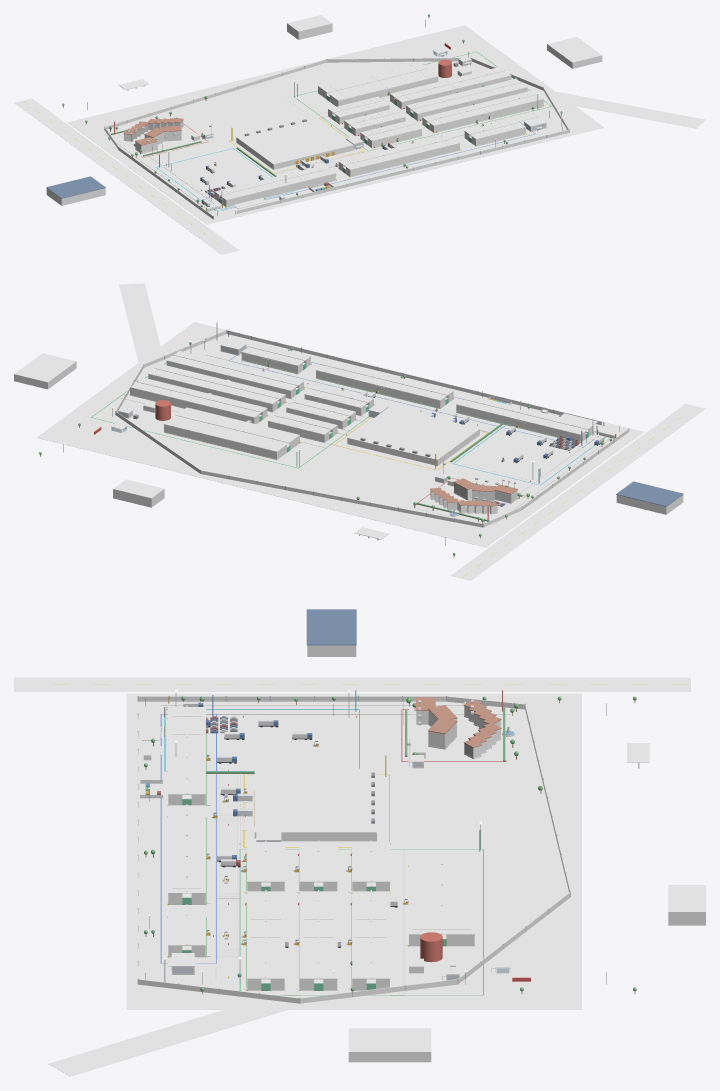
Rendered from site_built_full.opt.glb.
3 renders of one model, top to bottom at view 1: azimuth 30°, elevation 25°; view 2: azimuth 150°, elevation 25°; view 3: azimuth 270°, elevation 25°, orthographic. The views are drawn at different scales.
Parts seen in each view (by area): view 1: ground, ctx_road_w, Z3_roof, z2_yard, ctx_road_e, fence_s, ctx_neigh, road_spine, WHE-5_roof1, WHE-5_roof2, fence2, road_w (+24 smaller); view 2: ground, ctx_road_w, Z3_roof, z2_yard, ctx_road_e, fence_s, ctx_neigh, fence2, WHE-5_roof2, road_spine, WHE-5_roof1, road_w (+23 smaller); view 3: ground, ctx_road_w, Z3_roof, z2_yard, ctx_road_e, road_spine, ctx_neigh, z1_green, WHE-5_roof2, WHE-5_roof1, road_r0, road_r2 (+20 smaller).
Boxes of the visible parts, x1,y1,x2,y2 form: ground: (67,25,604,224); ctx_road_w: (14,98,239,254); Z3_roof: (236,117,353,164); z2_yard: (166,151,268,205); ctx_road_e: (530,87,705,128); fence_s: (237,129,568,213); ctx_neigh: (547,37,602,68); road_spine: (270,111,538,177); WHE-5_roof1: (328,69,437,100); WHE-5_roof2: (318,61,427,93); fence2: (105,59,326,129); road_w: (105,134,222,212); ground: (36,322,643,547); ctx_road_w: (451,403,705,580); Z3_roof: (347,406,479,459); z2_yard: (460,426,593,481); ctx_road_e: (119,283,165,373); fence_s: (226,330,601,425); ctx_neigh: (14,353,76,389); fence2: (201,470,482,527); WHE-5_roof2: (164,415,288,451); road_spine: (204,355,501,433); WHE-5_roof1: (176,407,299,443); road_w: (491,435,610,524); ground: (126,693,581,1009); ctx_road_w: (14,677,690,691); Z3_roof: (254,768,376,832); z2_yard: (206,715,352,768); ctx_road_e: (48,990,311,1076); road_spine: (217,774,239,979); ctx_neigh: (348,1028,431,1062); z1_green: (409,709,517,760); WHE-5_roof2: (442,854,474,934); WHE-5_roof1: (409,854,441,934); road_r0: (284,847,299,995); road_r2: (390,847,404,995).
Size of what is drawn, in the model's own units: 572 by 16.1 by 368.
